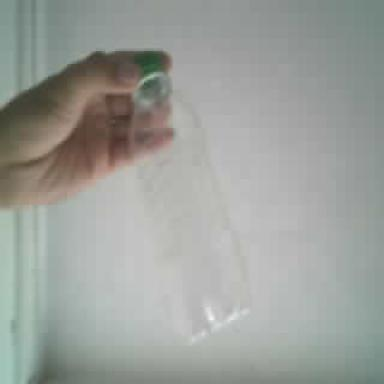bottle: (133, 54, 247, 342)
